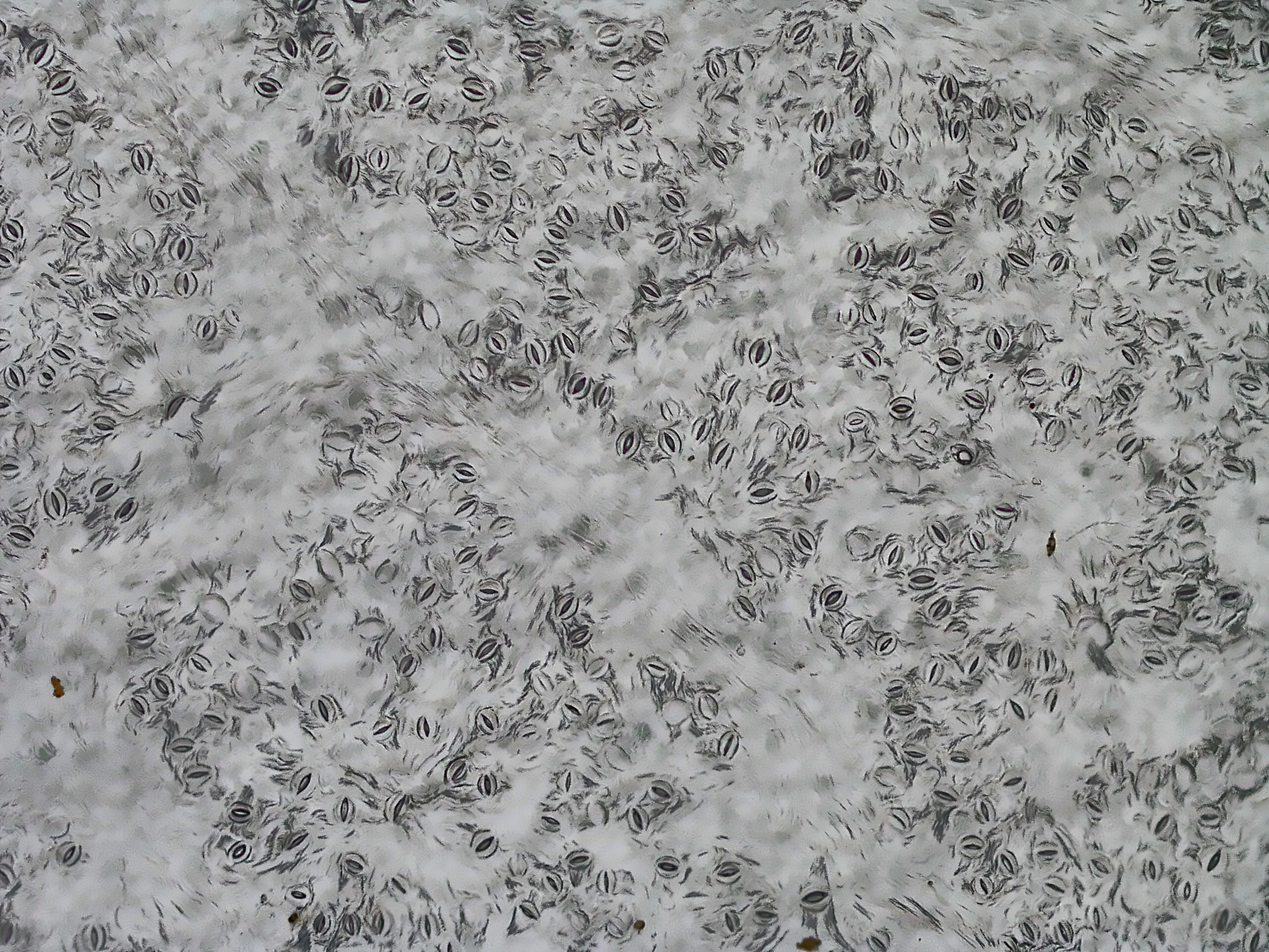stomata: (1166, 361, 1213, 392), (282, 764, 320, 802), (1004, 242, 1047, 275), (436, 750, 473, 788), (383, 790, 416, 831), (795, 880, 836, 913), (914, 592, 962, 620), (972, 82, 1005, 122), (1200, 841, 1232, 881), (280, 576, 325, 604), (982, 319, 1015, 357), (707, 858, 748, 888), (867, 760, 908, 790), (314, 545, 349, 580), (787, 16, 821, 52), (763, 373, 798, 407), (744, 476, 780, 509), (1147, 806, 1178, 844), (333, 464, 372, 494), (704, 84, 747, 111), (1176, 467, 1211, 500), (1043, 411, 1071, 452), (315, 71, 353, 101), (1103, 175, 1141, 205), (1173, 201, 1203, 239), (46, 339, 88, 366), (651, 426, 685, 459), (422, 140, 457, 172), (1173, 509, 1213, 537), (445, 491, 481, 522), (472, 825, 503, 861), (551, 765, 588, 795), (748, 331, 777, 369), (707, 435, 736, 473), (365, 74, 393, 113), (470, 634, 505, 665), (1115, 340, 1151, 370), (401, 81, 434, 113), (333, 158, 365, 191), (574, 125, 607, 157), (700, 52, 734, 83), (1146, 249, 1188, 274), (1021, 318, 1051, 353), (985, 493, 1020, 523), (148, 672, 185, 700), (898, 284, 941, 308), (554, 322, 584, 356), (692, 687, 722, 721), (59, 217, 96, 244), (1196, 799, 1233, 826), (128, 144, 160, 175), (130, 226, 162, 257), (1117, 430, 1148, 462), (861, 929, 904, 952), (535, 244, 569, 273), (797, 466, 826, 500), (961, 829, 995, 858), (169, 265, 197, 300), (44, 488, 72, 523), (791, 523, 819, 558), (421, 299, 448, 335), (450, 541, 486, 568), (1105, 378, 1136, 409), (336, 847, 367, 878), (594, 707, 625, 738), (929, 779, 961, 809), (554, 194, 587, 223), (1240, 328, 1269, 361), (366, 710, 395, 743), (1235, 373, 1269, 401), (1049, 914, 1077, 948), (613, 427, 640, 462), (88, 300, 124, 326), (15, 417, 39, 456), (601, 199, 627, 235), (881, 535, 907, 571), (532, 808, 568, 834), (1110, 298, 1140, 329), (841, 615, 871, 646), (688, 409, 713, 446), (885, 803, 910, 840), (314, 33, 342, 66), (899, 740, 932, 768), (934, 345, 968, 372), (1181, 140, 1219, 164), (1206, 264, 1232, 299), (475, 705, 501, 740), (977, 789, 999, 830), (472, 578, 508, 603), (655, 857, 691, 882), (998, 192, 1027, 223), (911, 560, 940, 591), (818, 582, 847, 613), (722, 901, 745, 940), (129, 271, 161, 299), (0, 357, 28, 389), (1066, 147, 1098, 175), (445, 459, 482, 483), (987, 848, 1024, 872), (278, 29, 304, 63), (333, 788, 355, 828), (7, 521, 42, 546), (489, 512, 519, 541), (513, 894, 543, 923), (508, 184, 539, 212), (616, 107, 647, 135), (836, 48, 867, 76), (873, 167, 901, 198), (929, 206, 957, 237), (286, 828, 314, 859), (1085, 846, 1113, 877), (1217, 453, 1253, 477), (222, 836, 254, 863), (384, 873, 416, 900), (1035, 207, 1061, 240), (733, 560, 766, 586), (127, 689, 153, 722), (1111, 752, 1137, 785), (516, 39, 553, 62), (522, 334, 547, 368), (186, 654, 220, 679), (528, 669, 557, 698), (1082, 794, 1111, 823), (894, 238, 918, 273), (1145, 314, 1173, 344), (282, 616, 312, 644), (395, 649, 421, 681), (416, 710, 442, 742), (315, 692, 338, 728), (456, 314, 481, 347), (1062, 358, 1087, 391), (886, 395, 919, 420), (722, 369, 743, 408), (1212, 584, 1255, 603), (366, 140, 390, 174), (631, 801, 655, 835), (997, 769, 1031, 793), (547, 145, 569, 182), (567, 365, 589, 402), (27, 34, 56, 62), (552, 588, 579, 618), (857, 341, 883, 372), (842, 408, 873, 434), (373, 906, 396, 941), (563, 848, 598, 871), (964, 265, 989, 297), (372, 419, 404, 444), (3, 118, 36, 142), (639, 28, 672, 52), (945, 111, 969, 144), (342, 903, 364, 939), (179, 183, 208, 210), (710, 142, 739, 169), (1125, 110, 1152, 139), (1043, 248, 1070, 277), (1075, 282, 1102, 311), (1039, 687, 1066, 716), (650, 777, 679, 804), (962, 651, 988, 681), (519, 714, 540, 751), (88, 475, 119, 500), (1113, 228, 1138, 259), (734, 591, 759, 622), (590, 94, 625, 116), (506, 373, 538, 397), (560, 623, 592, 647), (1213, 903, 1237, 935), (511, 6, 549, 26), (722, 724, 741, 764), (1087, 897, 1107, 935), (125, 628, 158, 651), (1007, 95, 1034, 123), (3, 212, 29, 241), (115, 497, 141, 526), (460, 75, 489, 101), (862, 297, 888, 326), (1151, 614, 1180, 640), (586, 654, 615, 680), (756, 899, 782, 928), (1139, 853, 1165, 882), (469, 350, 491, 384), (884, 702, 923, 721), (253, 73, 285, 96), (480, 769, 503, 801), (913, 424, 940, 451), (1205, 43, 1233, 69), (926, 517, 952, 545), (203, 705, 231, 731), (951, 749, 979, 775), (830, 185, 863, 207), (223, 797, 256, 819), (540, 870, 573, 892), (756, 231, 781, 260), (51, 109, 75, 139), (55, 838, 85, 862), (689, 226, 723, 247), (425, 620, 446, 654), (1032, 841, 1063, 864), (595, 23, 627, 45), (923, 657, 945, 689), (1135, 145, 1161, 172), (659, 395, 684, 423), (970, 525, 995, 553), (614, 153, 643, 177), (1086, 102, 1110, 131), (31, 364, 61, 387), (3, 864, 25, 895), (1, 921, 27, 947), (1145, 648, 1172, 673), (1038, 646, 1063, 673), (875, 632, 902, 657), (305, 913, 330, 940), (1039, 869, 1066, 894), (495, 221, 527, 242), (1023, 364, 1047, 392), (789, 424, 813, 452), (196, 317, 219, 346), (847, 242, 870, 271), (1002, 641, 1025, 670), (183, 762, 212, 785), (654, 230, 684, 252), (644, 657, 674, 679), (596, 866, 616, 899), (880, 675, 911, 696), (85, 925, 110, 951), (962, 384, 987, 410), (171, 233, 195, 260), (811, 150, 835, 177), (450, 227, 482, 247), (1244, 923, 1266, 952), (165, 734, 195, 755), (490, 157, 514, 183), (736, 44, 762, 68), (1059, 178, 1085, 202), (49, 75, 81, 94), (465, 188, 489, 213), (666, 181, 686, 211), (972, 873, 997, 897), (558, 697, 584, 720), (10, 489, 37, 511), (849, 137, 871, 164), (849, 441, 876, 463), (1011, 696, 1033, 723), (610, 59, 641, 78), (635, 87, 666, 106), (941, 71, 960, 102), (1019, 915, 1038, 946), (812, 105, 833, 133), (890, 120, 910, 149), (0, 457, 24, 481), (551, 288, 583, 306), (956, 173, 979, 198), (286, 879, 312, 901), (1203, 21, 1233, 40), (47, 157, 74, 178), (59, 267, 92, 284), (92, 416, 120, 436), (445, 37, 470, 59), (151, 184, 172, 210), (545, 223, 571, 244), (904, 322, 930, 343), (1175, 878, 1196, 904), (639, 280, 666, 300), (223, 301, 246, 324), (436, 184, 460, 206), (487, 331, 508, 355), (595, 380, 613, 408), (767, 421, 788, 445), (0, 245, 18, 272), (852, 91, 870, 117), (1177, 583, 1203, 601), (422, 577, 439, 604), (996, 932, 1022, 949), (1192, 606, 1213, 626), (841, 302, 858, 326), (295, 0, 322, 14), (0, 394, 14, 420), (1256, 36, 1267, 67)
